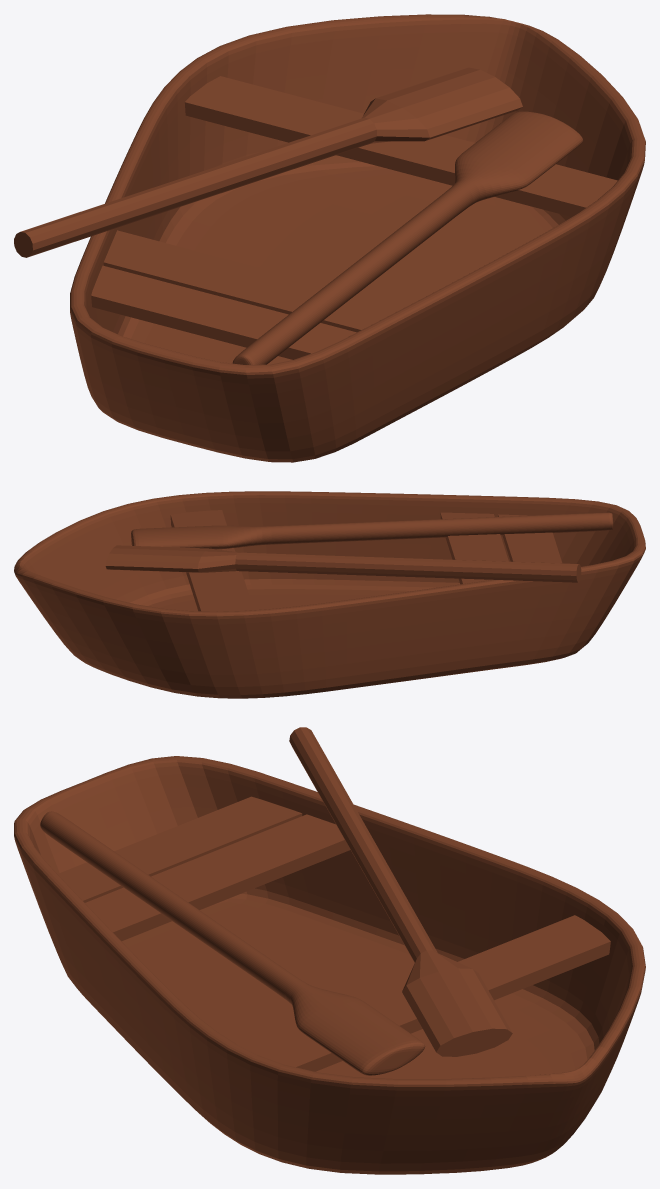
File: boat.fbx
3 renders of one model, top to bottom at view 1: azimuth 30°, elevation 25°; view 2: azimuth 150°, elevation 25°; view 3: azimuth 270°, elevation 25°, orthographic. The views are drawn at different scales.
Parts seen in each view (by area): view 1: Plane, Cube.003, Cylinder, Cylinder.001; view 2: Plane, Cylinder, Cylinder.001, Cube.003; view 3: Plane, Cube.003, Cylinder.001, Cylinder.
Boxes of the visible parts, <box> form: Plane: <box>70,14,645,462</box>; Cube.003: <box>91,76,617,359</box>; Cylinder: <box>14,67,522,257</box>; Cylinder.001: <box>232,111,582,364</box>; Plane: <box>14,491,645,698</box>; Cylinder: <box>105,545,581,582</box>; Cylinder.001: <box>131,512,613,549</box>; Cube.003: <box>170,510,562,611</box>; Plane: <box>14,756,645,1174</box>; Cube.003: <box>58,796,610,1071</box>; Cylinder.001: <box>40,811,425,1075</box>; Cylinder: <box>289,727,512,1056</box>.
Size of the model in its own units: 85.51 by 23.26 by 73.82.
